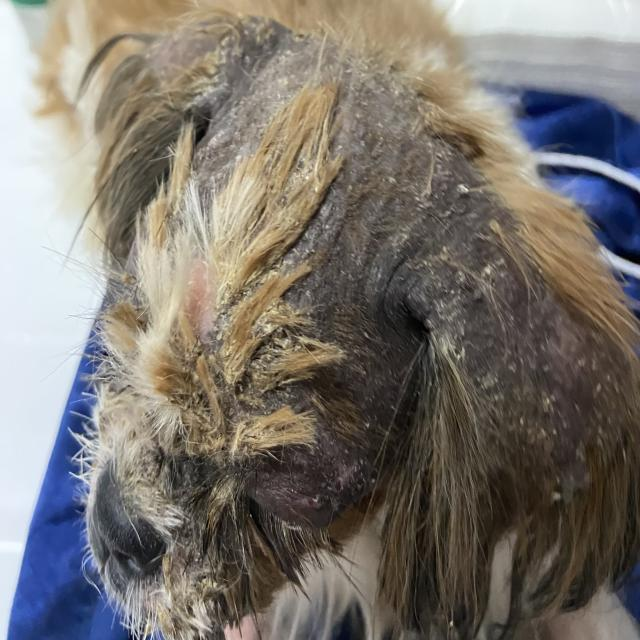demodicosis: (425, 233, 601, 484), (325, 79, 447, 223), (186, 30, 288, 145)
